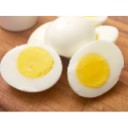begg: (69, 40, 124, 94), (2, 45, 61, 90)
